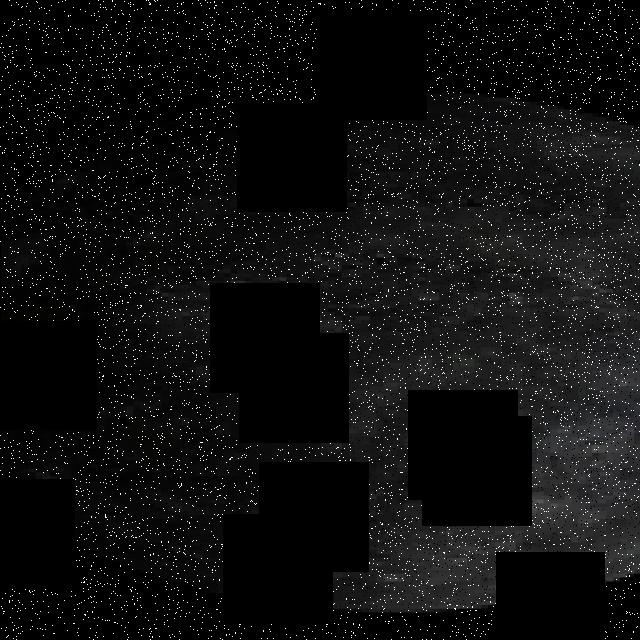Mercury: (0, 90, 640, 612)
